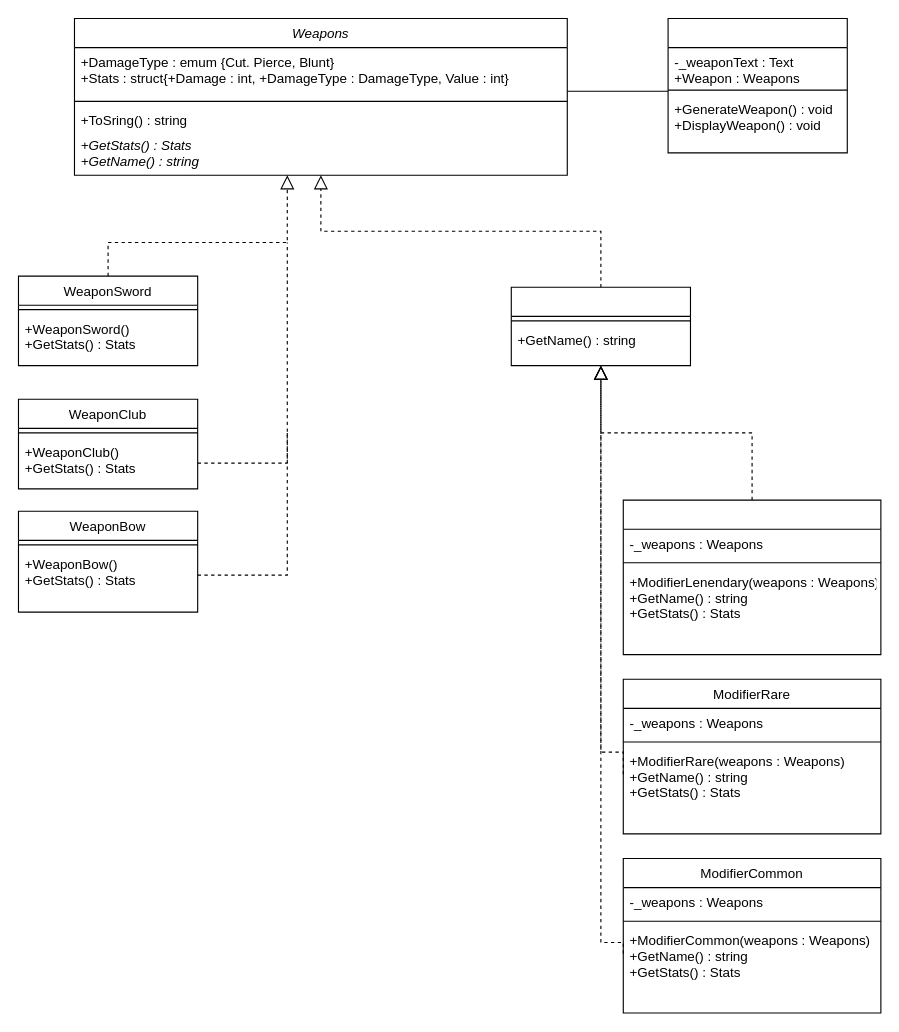
This 899x1032 diagram has some shape labels left out. The box of each missing label's shape, as (x1, y1, x2, y2) in pixels:
ModifierLegendary: (622, 499, 881, 655)
WeaponDecorator: (510, 286, 690, 366)
WeaponGenerator: (667, 17, 847, 153)
